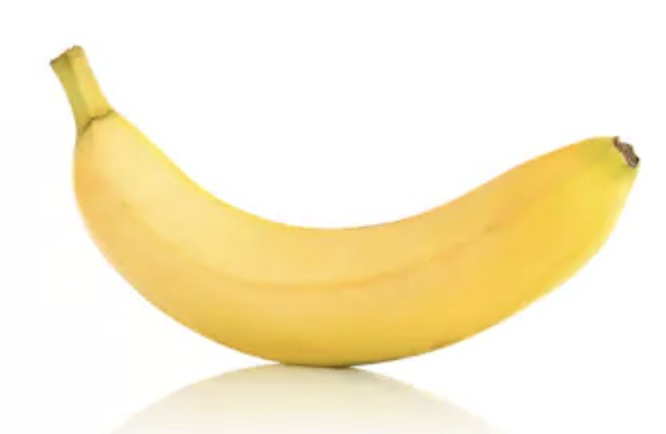fresh_banana: (50, 44, 642, 369)
